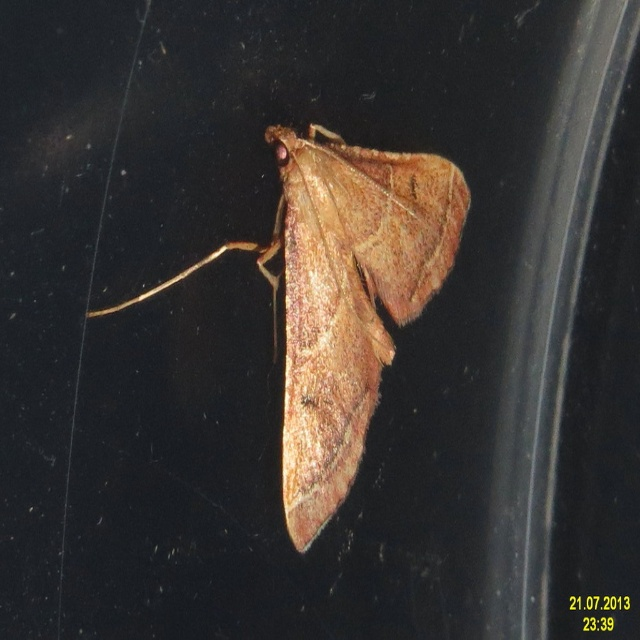Moths and butterflies: (85, 120, 472, 554)
